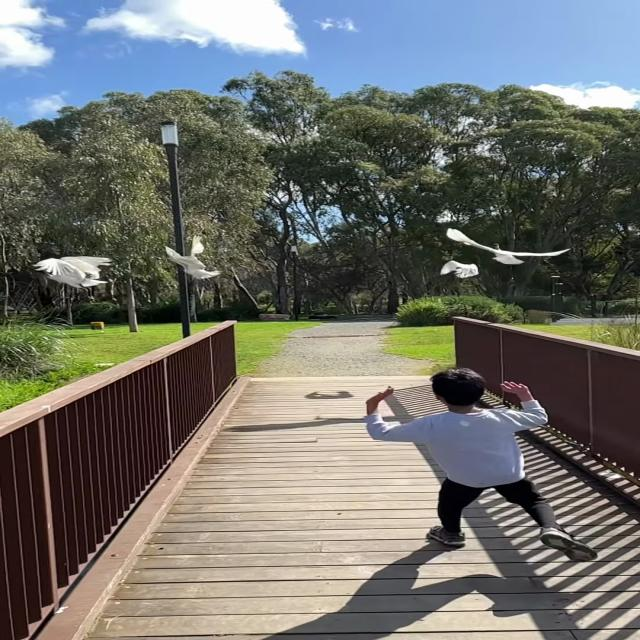Birds-Ibis: (442, 224, 574, 266), (30, 252, 116, 294), (158, 235, 228, 284), (437, 259, 483, 281)
